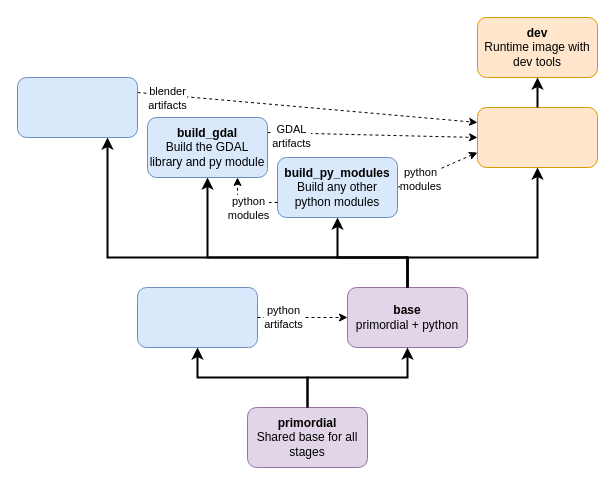
This 615x485 diagram has some shape labels left out. The shapes that lost their labels are listed below. From the top down, each one's box as (x1, y1, x2, y2) in pixels, then its label:
(16, 76, 138, 138): build_blender Build blender and py module
(476, 106, 598, 168): prod Runtime image
(136, 286, 258, 348): build_python Build specific python version from source
